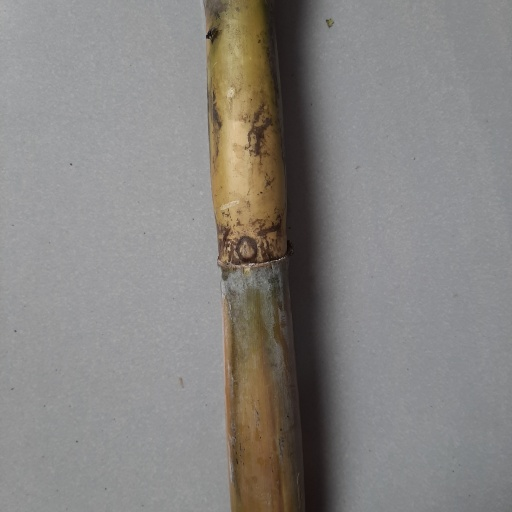Bud: (237, 237, 258, 263)
